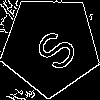S: (25, 20, 81, 75)
